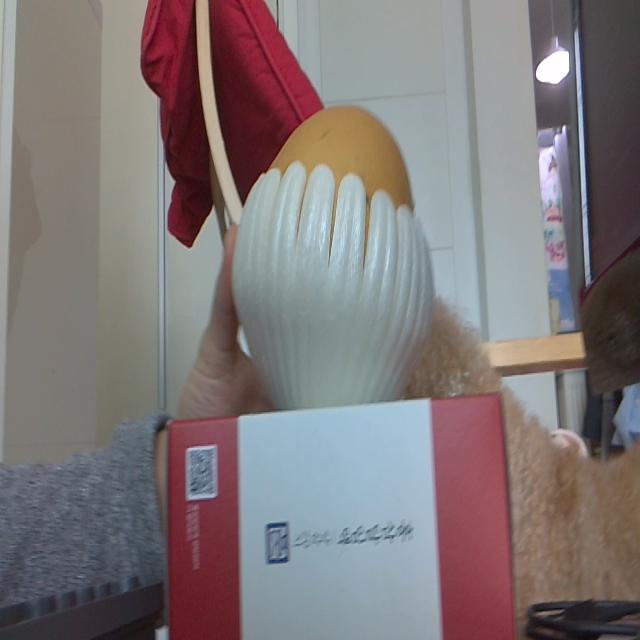pear: (230, 97, 433, 408)
